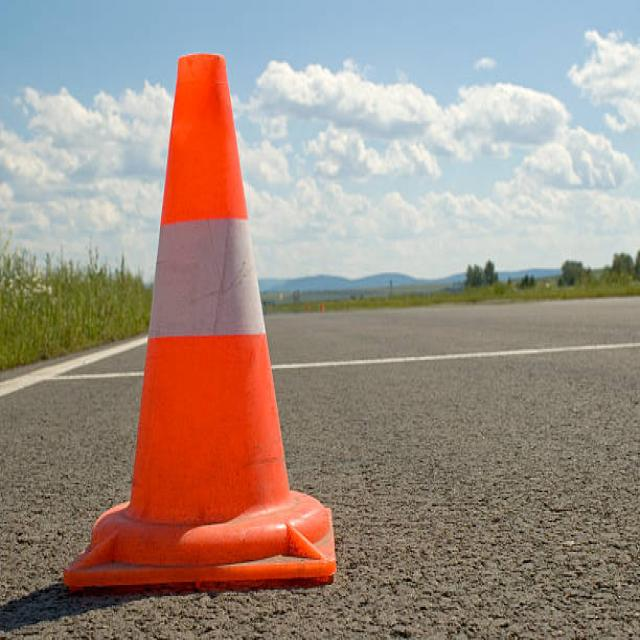Traffic Cone: (48, 12, 364, 603)
